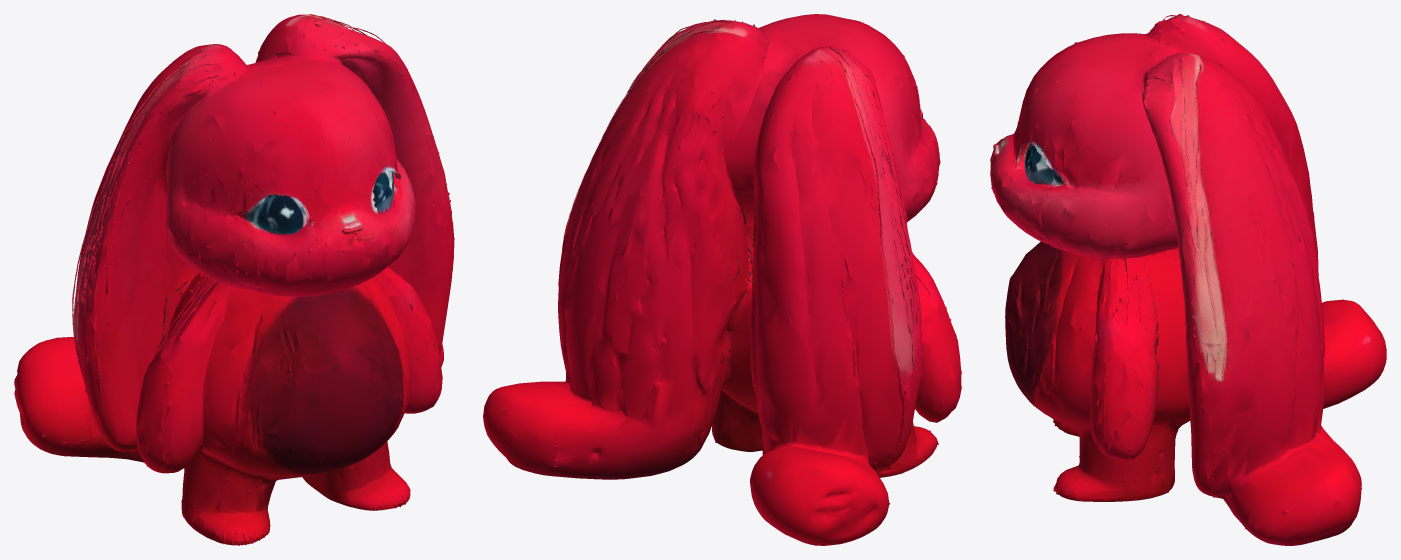
Rendered from heart-compatible.glb.
3 renders of one model, left to right at view 1: azimuth 30°, elevation 25°; view 2: azimuth 150°, elevation 25°; view 3: azimuth 270°, elevation 25°, orthographic. The views are drawn at different scales.
Parts seen in each view (by area): view 1: model; view 2: model; view 3: model.
Part boxes in pixels (x1,y1,x2,y2): model: (14,14,454,545); model: (483,14,961,545); model: (990,14,1386,545).
Bounding box in the file's own units: 1.8 × 1.9 × 1.61.
1 material, 1 textured.
